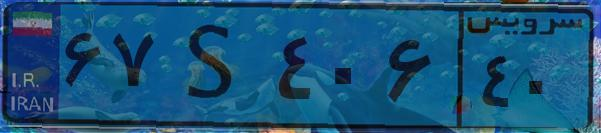0: (330, 28, 385, 110), (525, 38, 570, 115)
4: (270, 28, 330, 110), (475, 38, 525, 113)
6: (385, 28, 445, 110), (57, 26, 110, 100)
7: (110, 28, 158, 98)
S: (158, 12, 270, 120)
